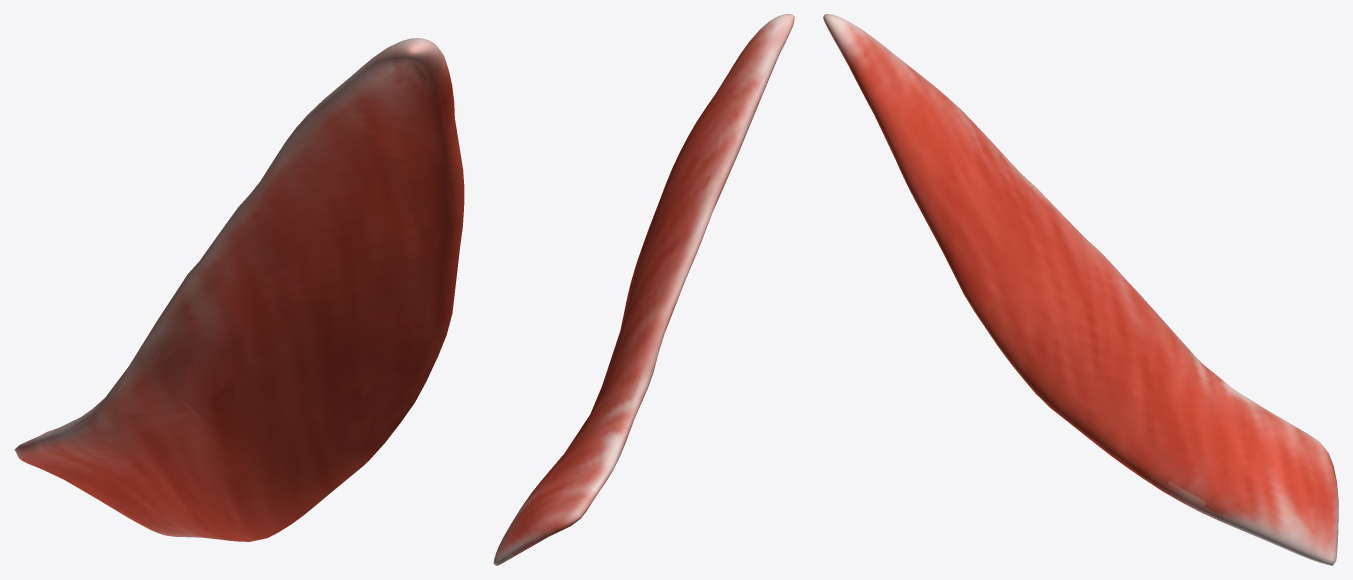
Rendered from L Rhomboideus Cervicis.fbx.
3 views of the same model, side by side, from view 1: azimuth 30°, elevation 25°; view 2: azimuth 150°, elevation 25°; view 3: azimuth 270°, elevation 25° (orthographic). The views are drawn at different scales.
Parts seen in each view (by area): view 1: L Rhomboideus Cervicis, L Rhomboideus Cervicis low; view 2: L Rhomboideus Cervicis, L Rhomboideus Cervicis low; view 3: L Rhomboideus Cervicis, L Rhomboideus Cervicis low.
Boxes of the visible parts, left/top/right/bottom form: L Rhomboideus Cervicis: left=14, top=38, right=464, bottom=541; L Rhomboideus Cervicis low: left=26, top=40, right=462, bottom=541; L Rhomboideus Cervicis: left=493, top=14, right=794, bottom=565; L Rhomboideus Cervicis low: left=494, top=38, right=778, bottom=563; L Rhomboideus Cervicis: left=823, top=14, right=1338, bottom=565; L Rhomboideus Cervicis low: left=824, top=18, right=1338, bottom=560.
Bounding box in the file's own units: 9.24 × 38.75 × 36.06.
